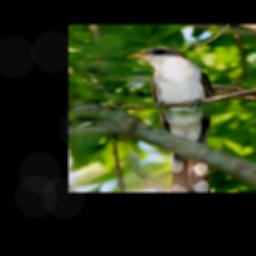Cuckoo: (119, 44, 216, 192)
